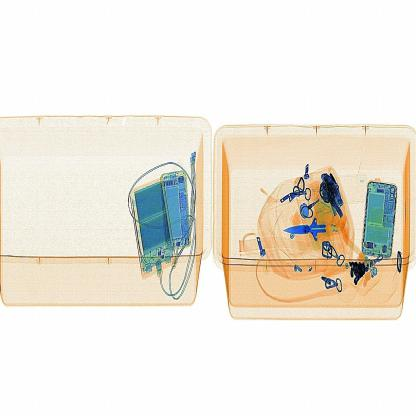gun: (280, 195, 342, 254)
